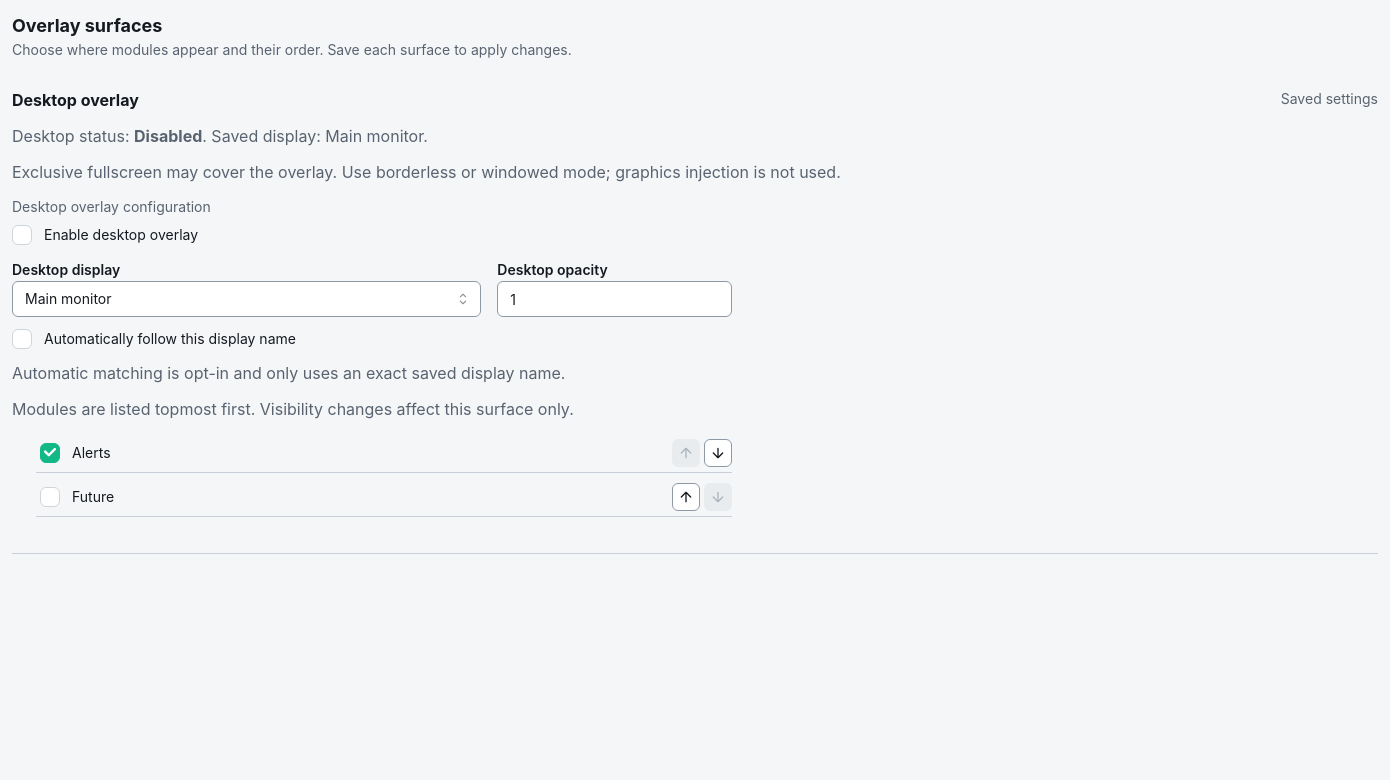
refreshes capabilities while preserving dirty drafts and retains stale state on refresh failure
What coordinates should you click on to do the following:
click the checkbox labelled "Enable desktop overlay"
I would click on:
 (22, 235)
Its box is 12,225 -> 32,245.
Wait 10000 ms
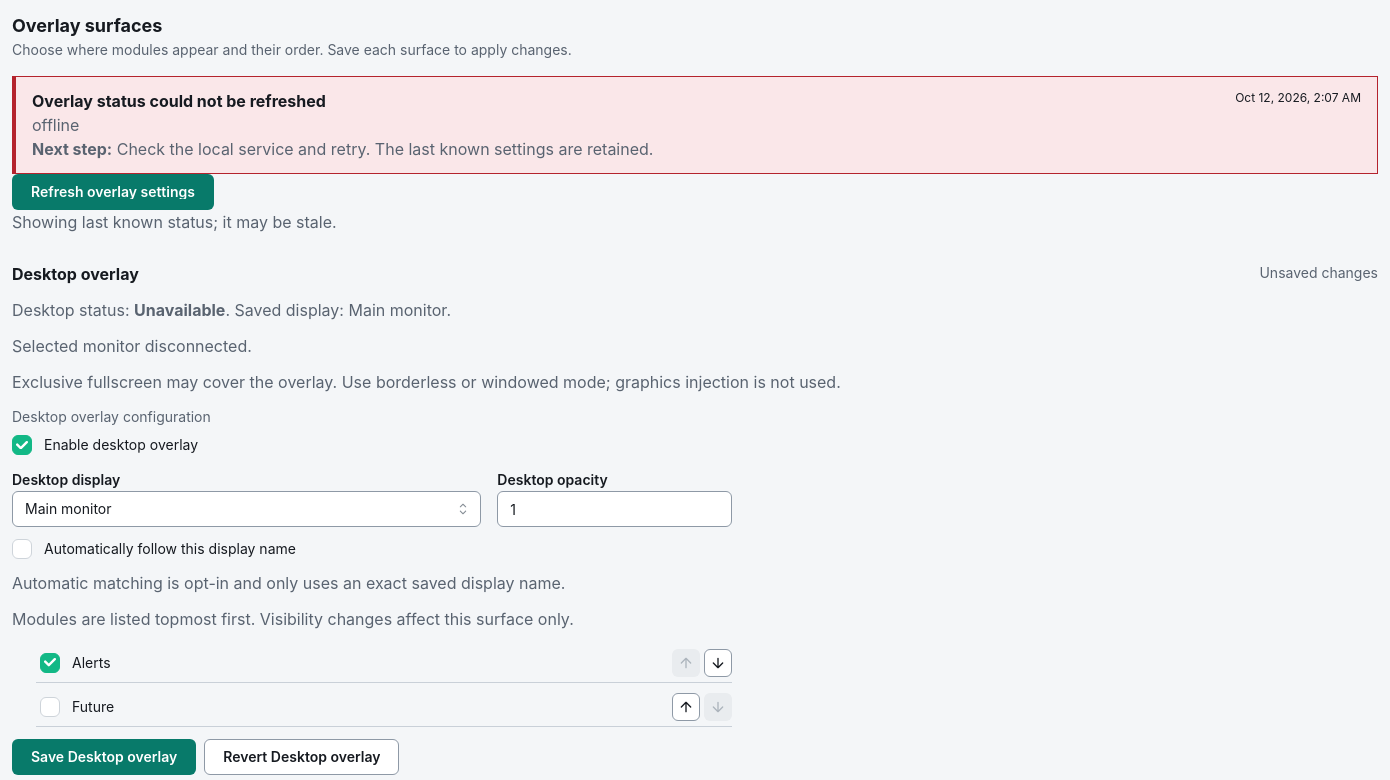
Check: the checkbox labelled "Enable desktop overlay" is checked, box 12,435 -> 32,455
Check: the text "Overlay status could not be refreshed" is shown, box 32,91 -> 326,111
Check: the text "Selected monitor disconnected." is shown, box 12,336 -> 252,356
